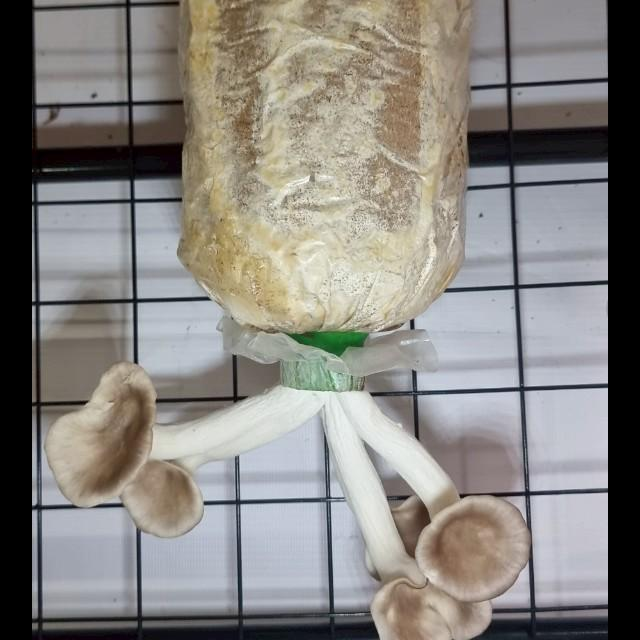normal: (334, 340, 538, 608), (40, 340, 336, 506), (322, 390, 490, 640), (120, 376, 326, 544)
